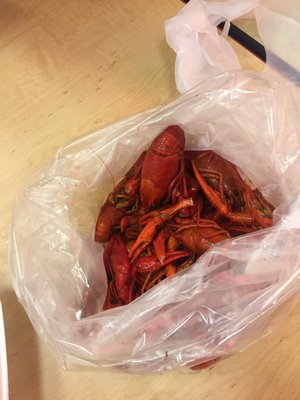curry: (1, 0, 299, 397)
